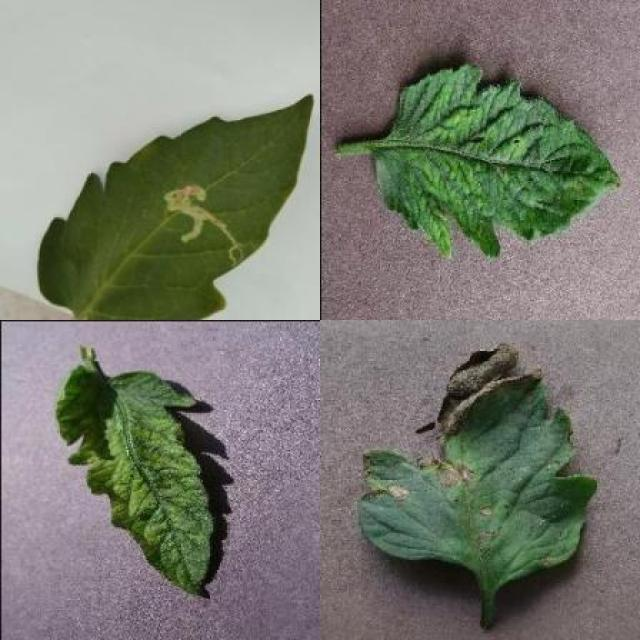Early Blight: (354, 341, 600, 586)
Leaf Miner: (37, 91, 313, 320)
Mosaic Virus: (372, 65, 622, 262), (53, 362, 213, 598)
